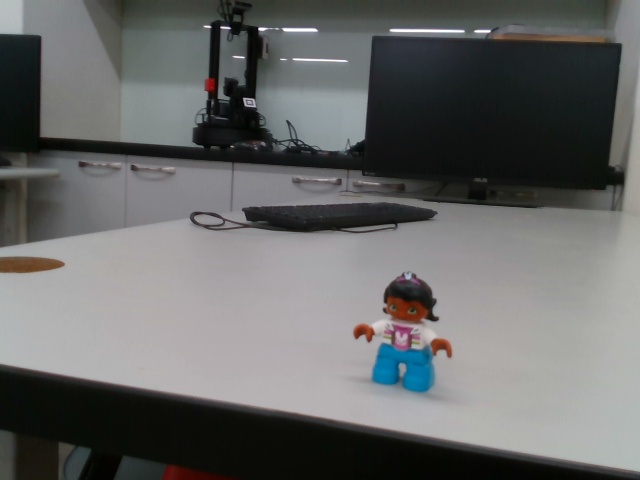people: (350, 269, 455, 397)
